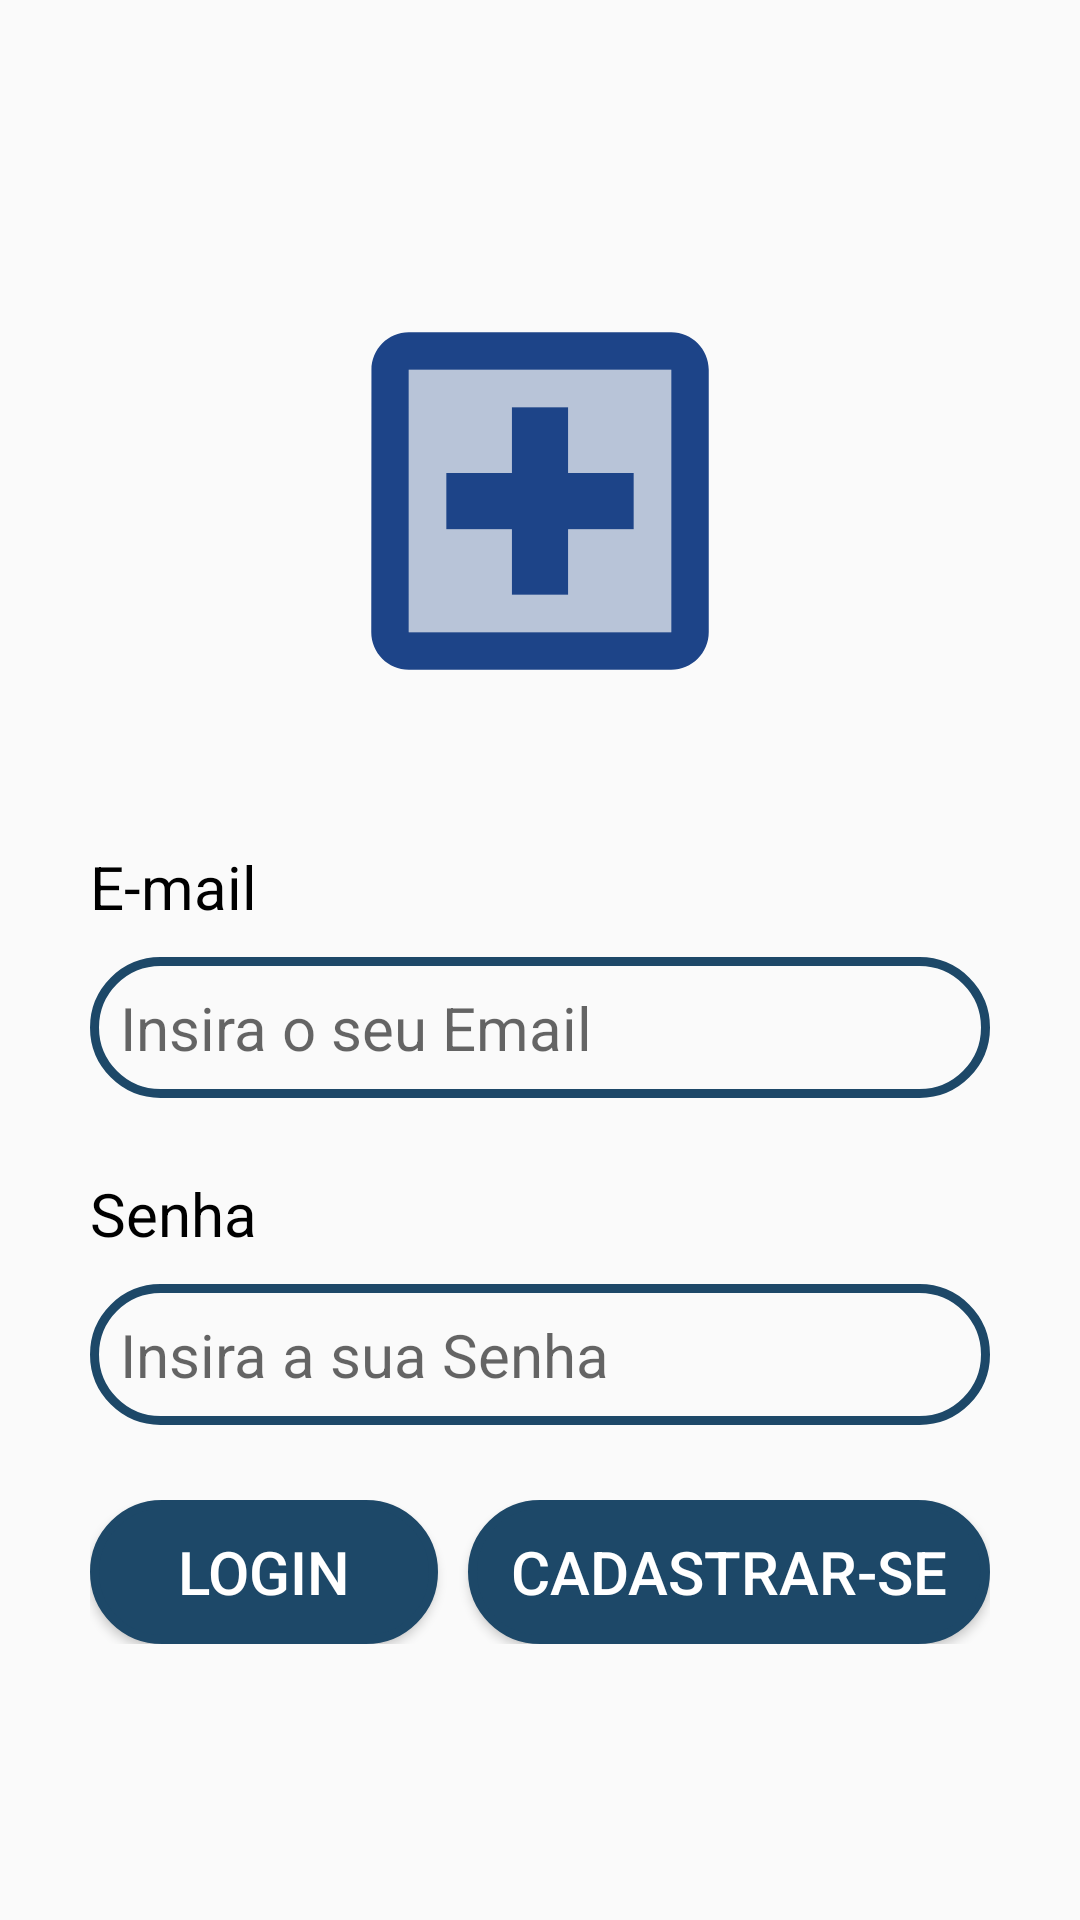

Named icons in this screenshot (1080*1920) and their centers, point (x, y):
hospital: point (540, 501)
